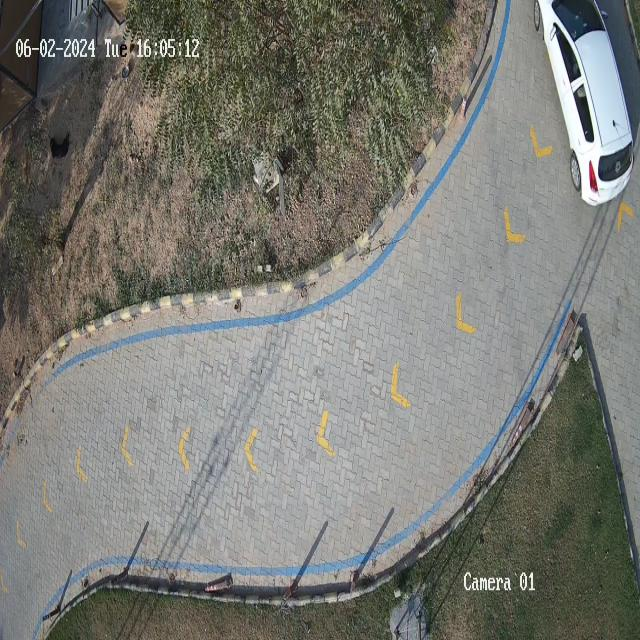car: (534, 0, 634, 204)
